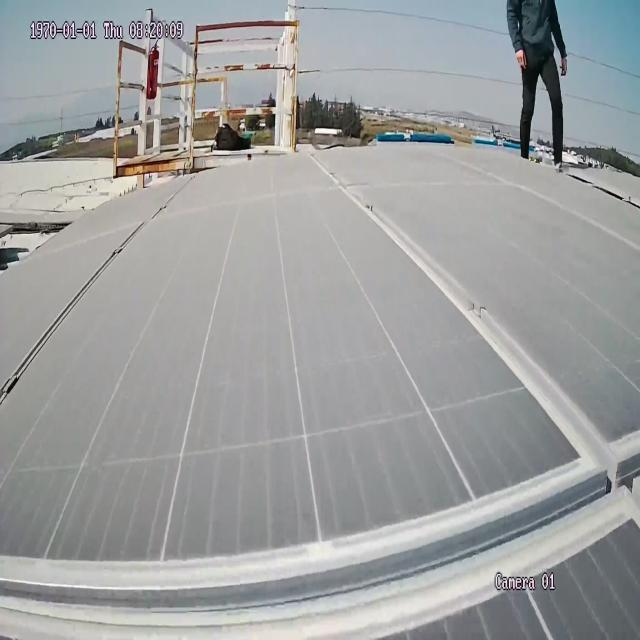interior panel: (312, 154, 640, 523), (2, 454, 604, 640), (0, 179, 185, 412)
